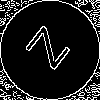Z: (25, 25, 80, 78)
